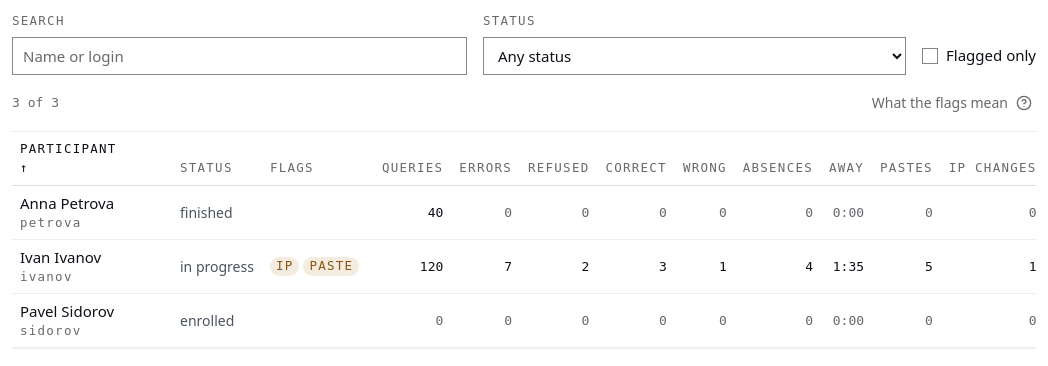
Test case: filters › says so when nobody matches
In the search field labelled "Search": point(240, 56) [12, 37, 467, 75], type "nobody"
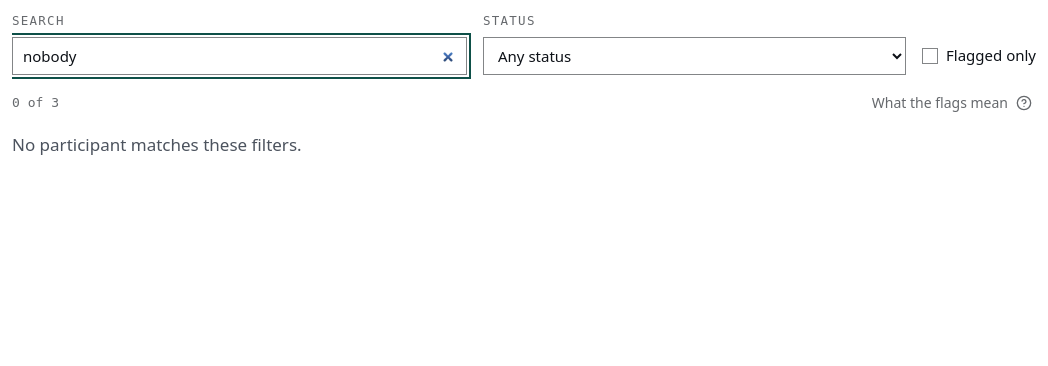
Result: the text "No participant matches these filters." is shown at [12, 133, 302, 156]
